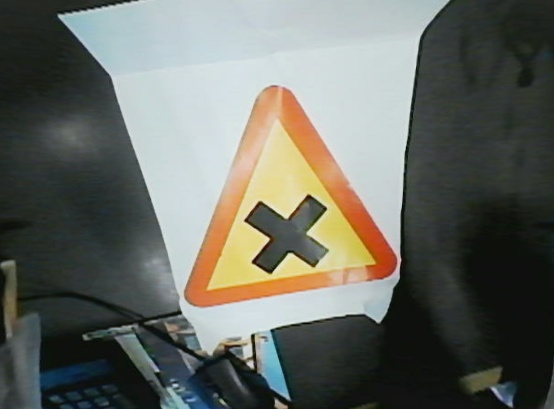junction: (139, 76, 424, 317)
